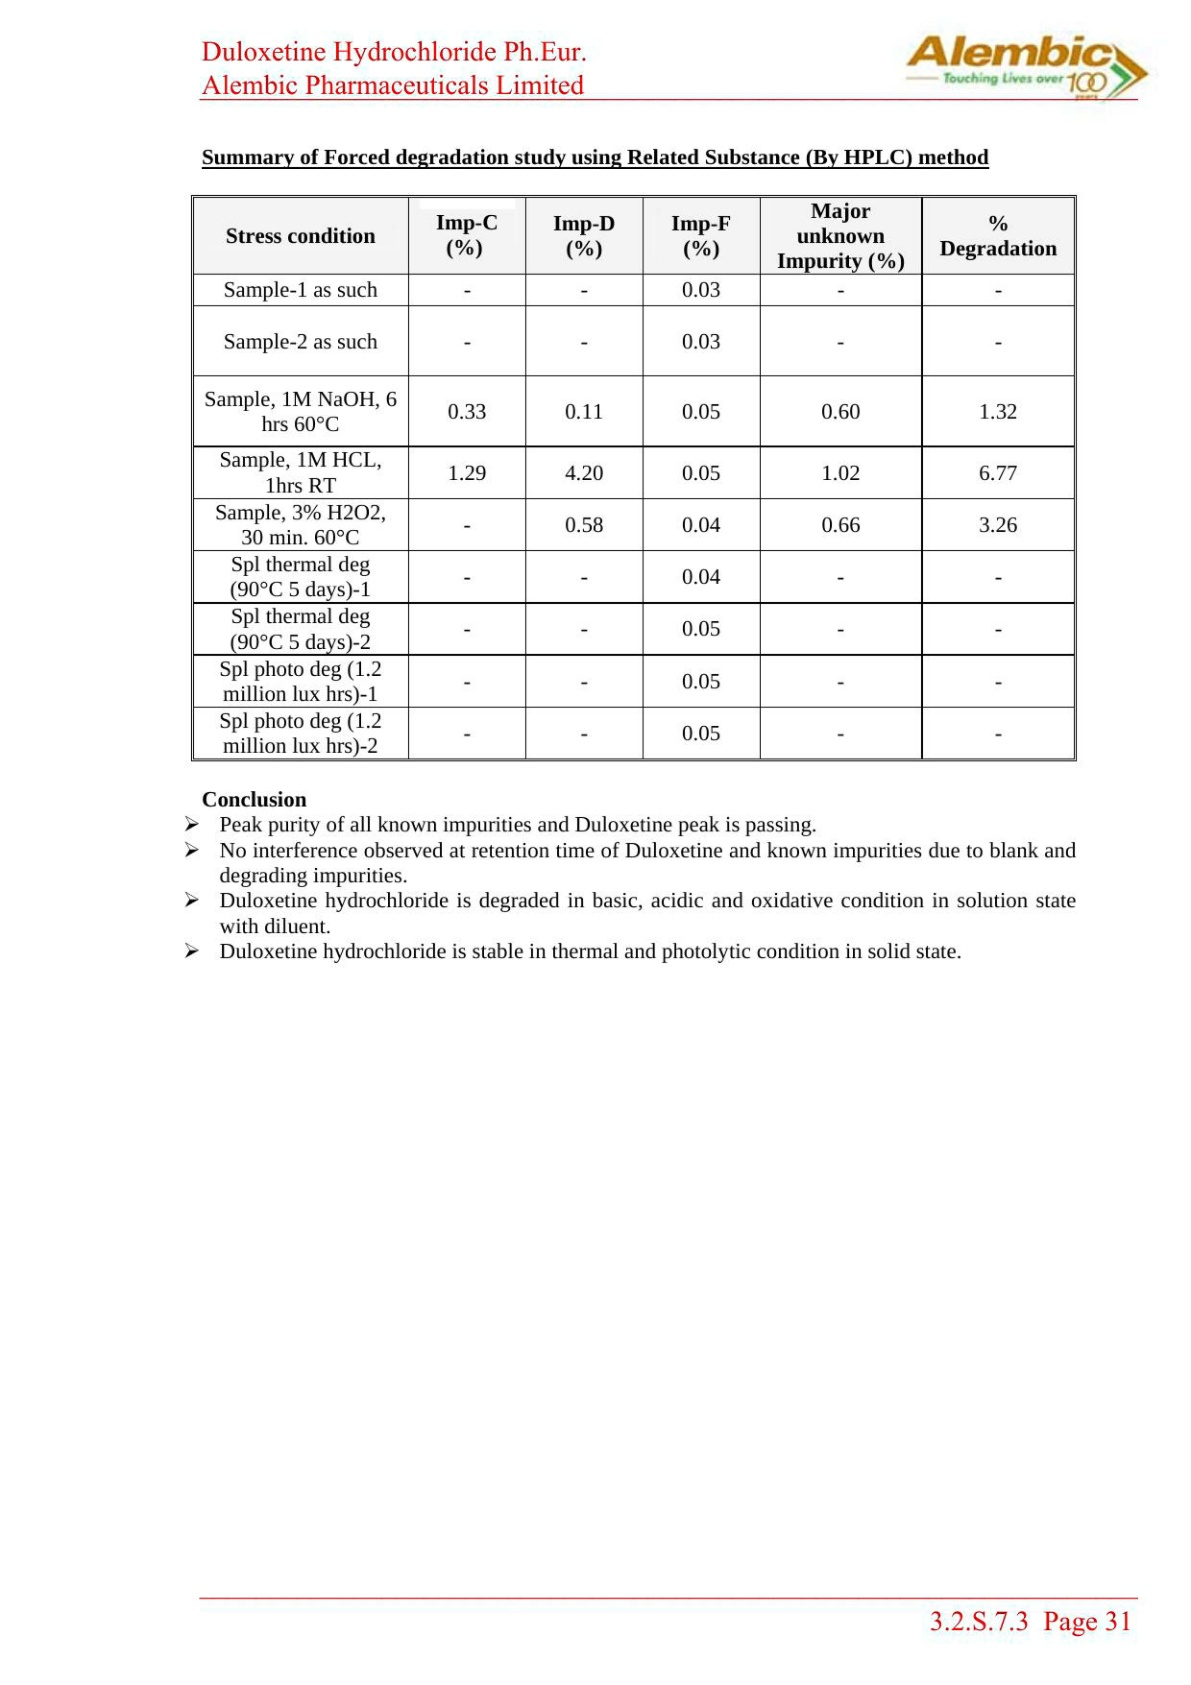full_lined: (191, 193, 1078, 762)
